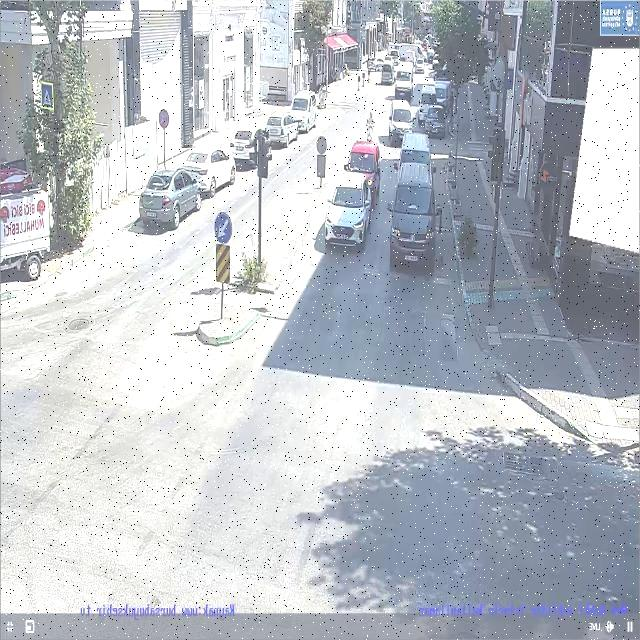Car: (390, 164, 440, 270), (321, 174, 375, 250), (139, 166, 205, 228), (181, 146, 236, 194), (346, 139, 382, 200), (394, 162, 433, 207), (386, 99, 415, 144), (290, 90, 320, 132), (264, 113, 300, 147), (399, 131, 432, 167), (230, 129, 260, 166), (422, 105, 448, 138), (394, 62, 414, 93), (434, 80, 452, 112), (416, 100, 434, 128), (418, 84, 438, 108), (380, 62, 396, 84), (373, 54, 390, 70), (434, 68, 450, 82), (400, 48, 414, 62), (431, 54, 440, 70), (415, 59, 425, 73), (390, 49, 400, 62), (428, 52, 434, 64)
